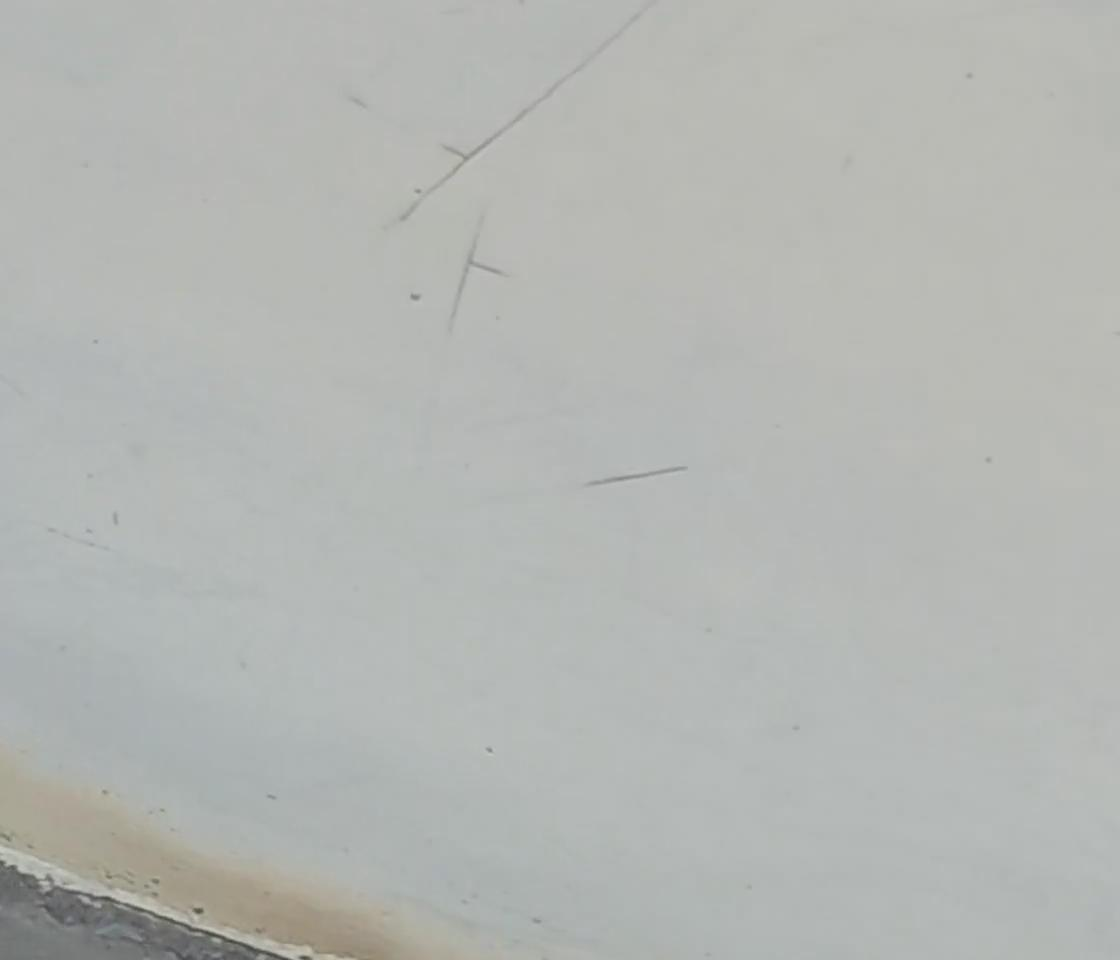scratch: (446, 216, 511, 329), (567, 462, 694, 490)
